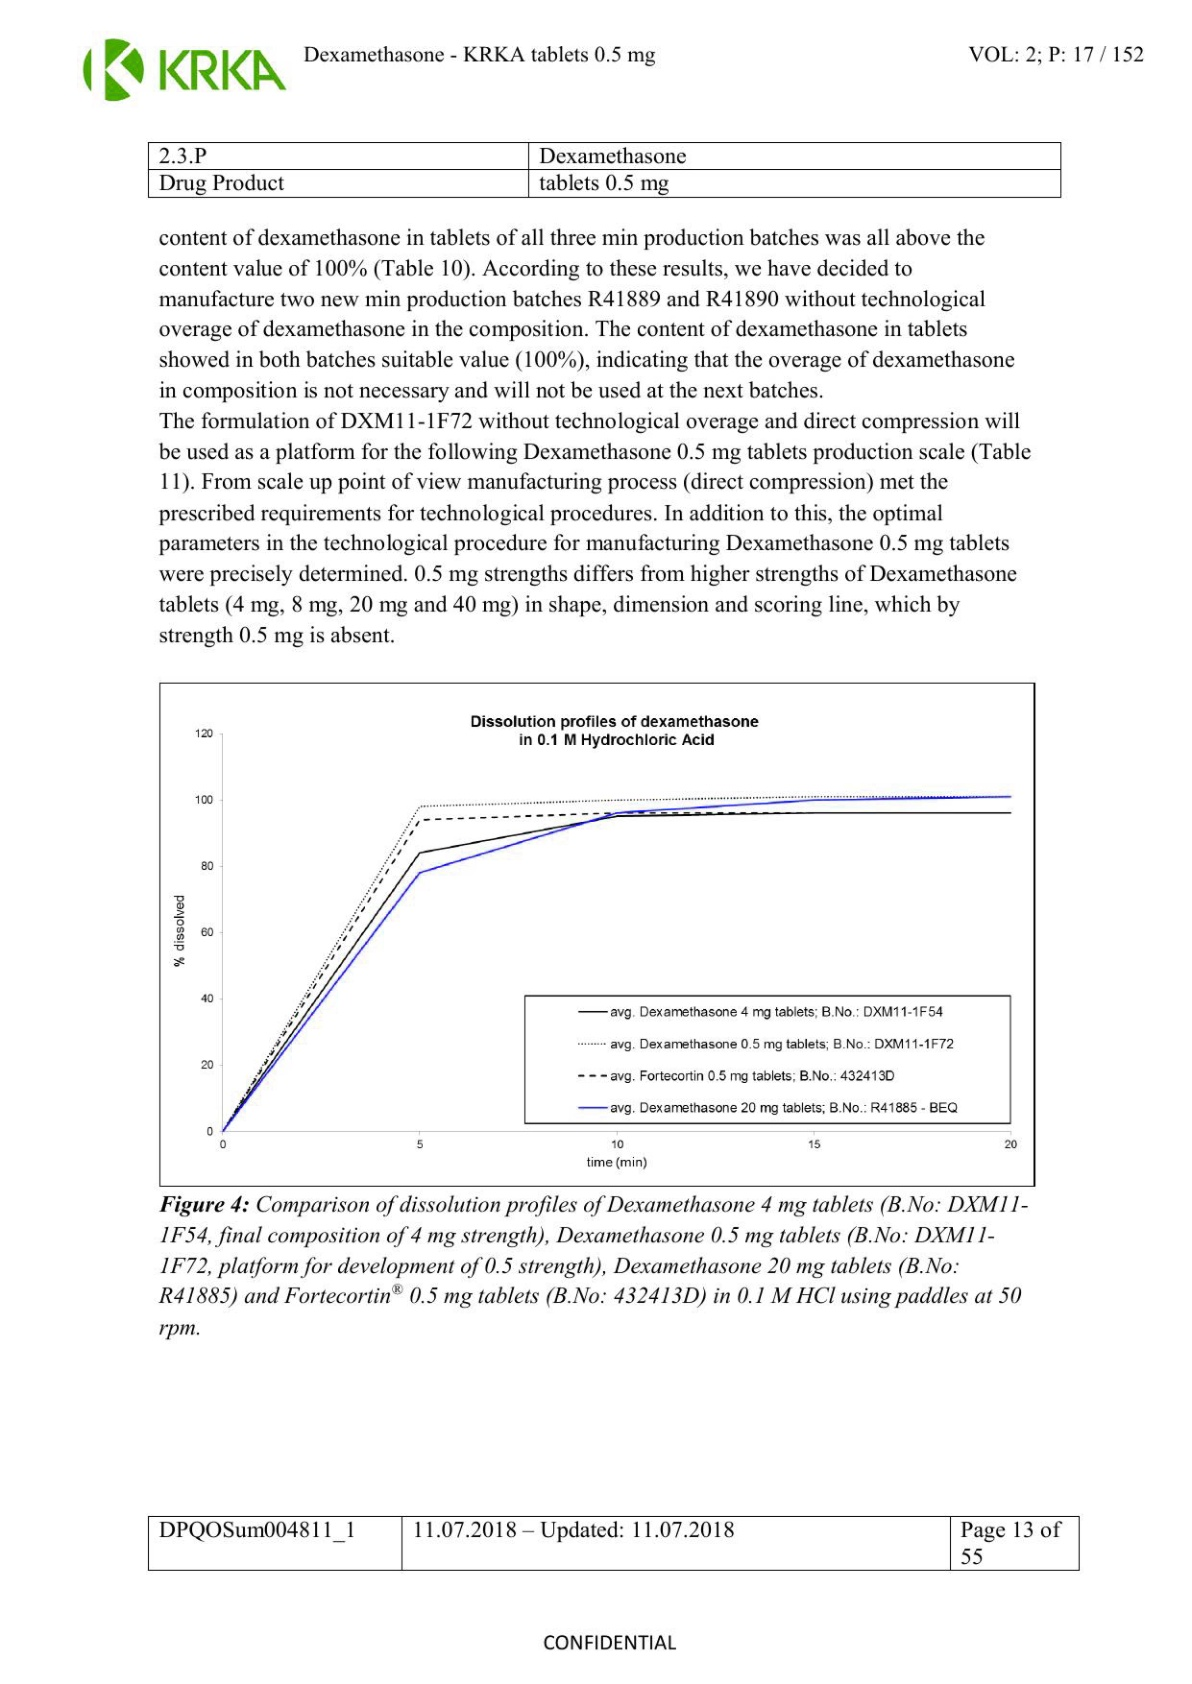full_lined: (142, 133, 1068, 202), (142, 1509, 1088, 1576)
